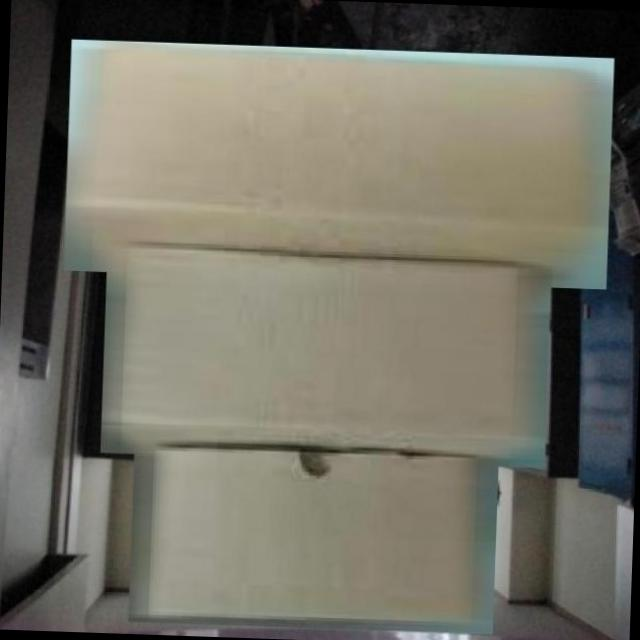box: (56, 33, 623, 294), (94, 235, 558, 470), (122, 432, 506, 638)
